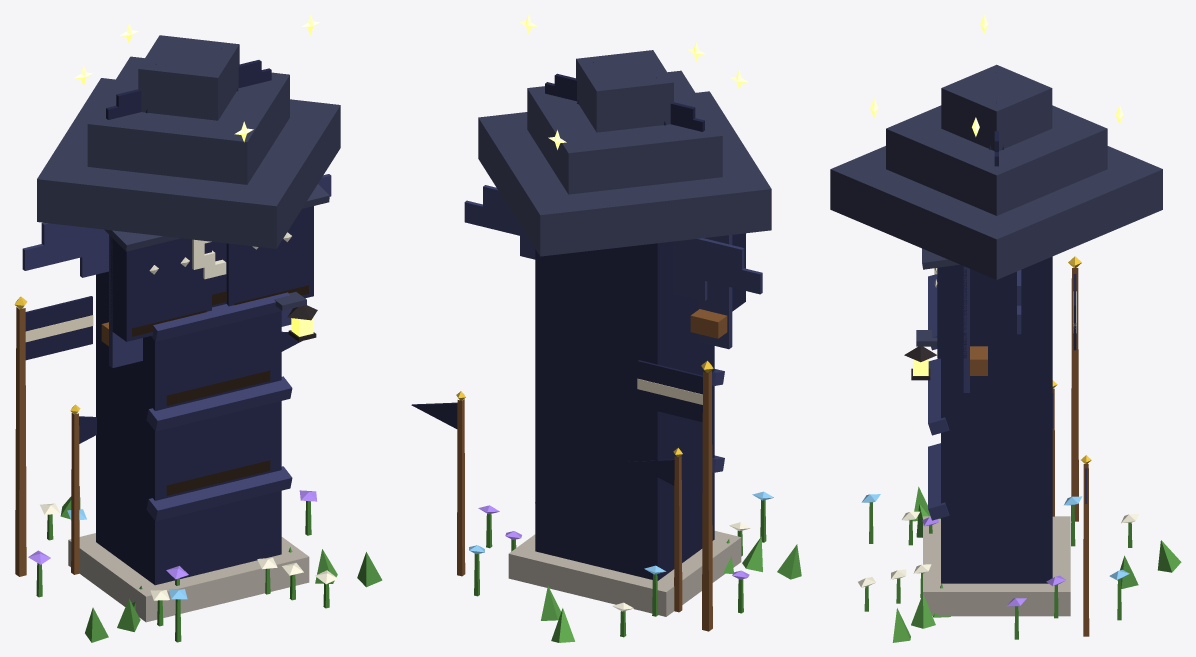
The model's file is bat-roost-blocky.glb.
The picture shows the model from 3 angles, left to right: view 1: azimuth 30°, elevation 25°; view 2: azimuth 150°, elevation 25°; view 3: azimuth 270°, elevation 25°; orthographic projection. The views are drawn at different scales.
Visible parts, largest first — view 1: lv3, lv2, lv1; view 2: lv3, lv2; view 3: lv3, lv2.
Boxes of the visible parts, left/top/right/bottom form: lv3: left=14, top=14, right=382, bottom=642; lv2: left=67, top=60, right=337, bottom=631; lv1: left=132, top=547, right=292, bottom=609; lv3: left=411, top=14, right=801, bottom=642; lv2: left=505, top=73, right=762, bottom=620; lv3: left=830, top=14, right=1181, bottom=642; lv2: left=891, top=131, right=1138, bottom=628.
Size of the model in its own units: 1.6 by 2.55 by 1.57.
